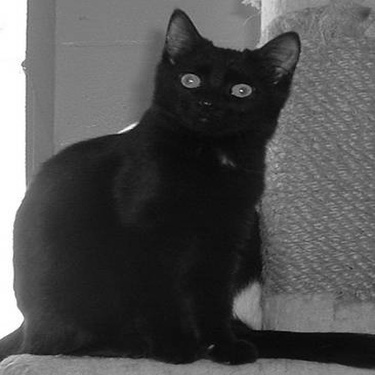cat: (12, 7, 301, 367)
